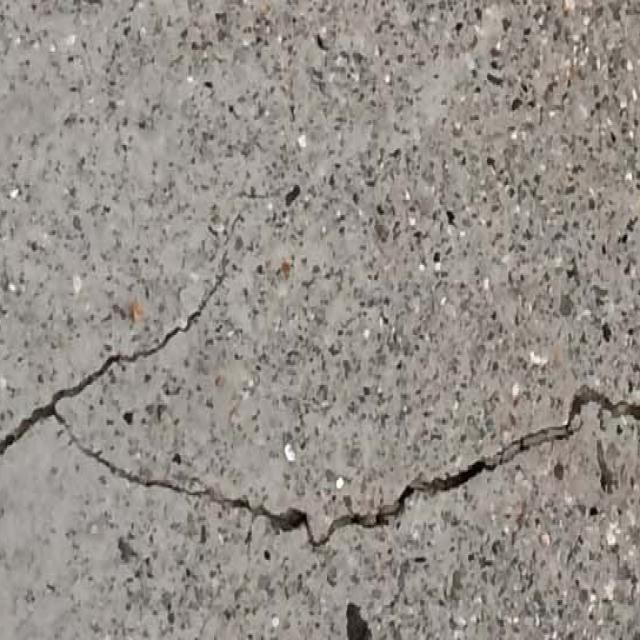Radial: (2, 262, 252, 548)
Transverse: (268, 368, 640, 553)
